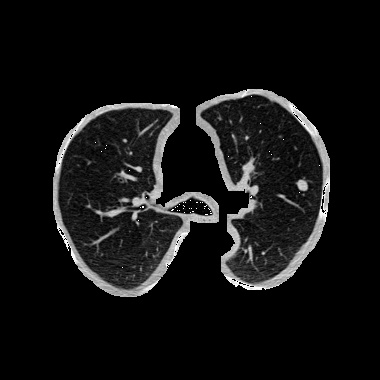PN: (296, 178, 308, 190)
